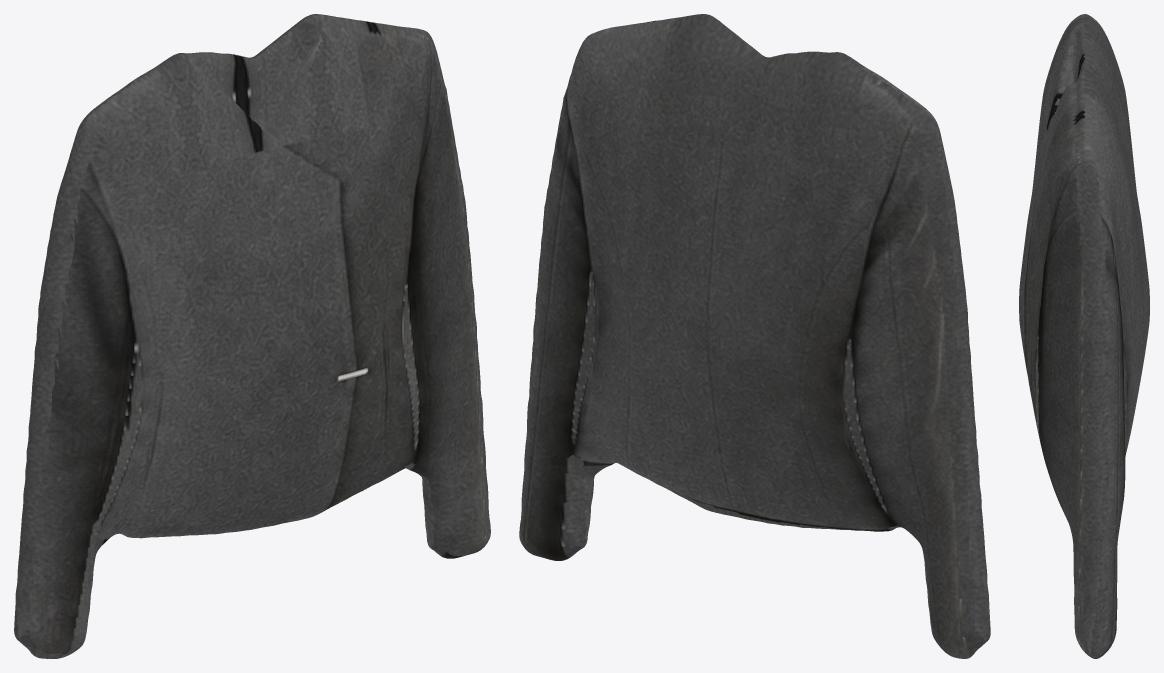
The model's file is NF020-fit-v5.glb.
The picture shows the model from 3 angles, left to right: view 1: azimuth 30°, elevation 25°; view 2: azimuth 150°, elevation 25°; view 3: azimuth 270°, elevation 25°; orthographic projection. The views are drawn at different scales.
Visible parts, largest first — view 1: NF020_worn_photo_fitted; view 2: NF020_worn_photo_fitted; view 3: NF020_worn_photo_fitted.
Part boxes in pixels (bbox=[...]): NF020_worn_photo_fitted: bbox=[14, 14, 490, 658]; NF020_worn_photo_fitted: bbox=[519, 14, 990, 658]; NF020_worn_photo_fitted: bbox=[1019, 14, 1149, 658].
Size of the model in its own units: 0.5185 by 0.6096 by 0.14.
Materials: 3 (3 with a texture image).
